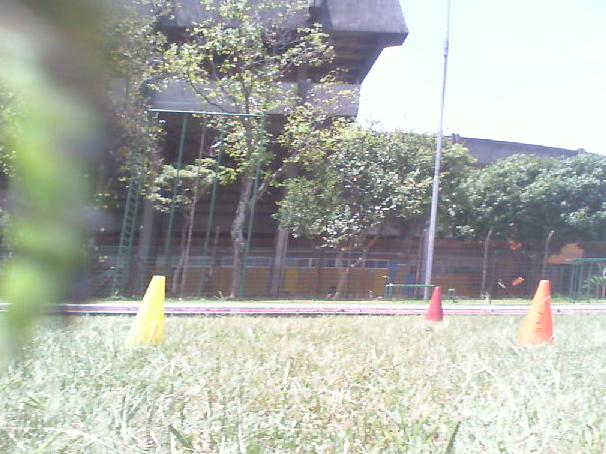0 cone: (124, 276, 165, 347), (517, 281, 553, 345), (425, 286, 443, 322)
